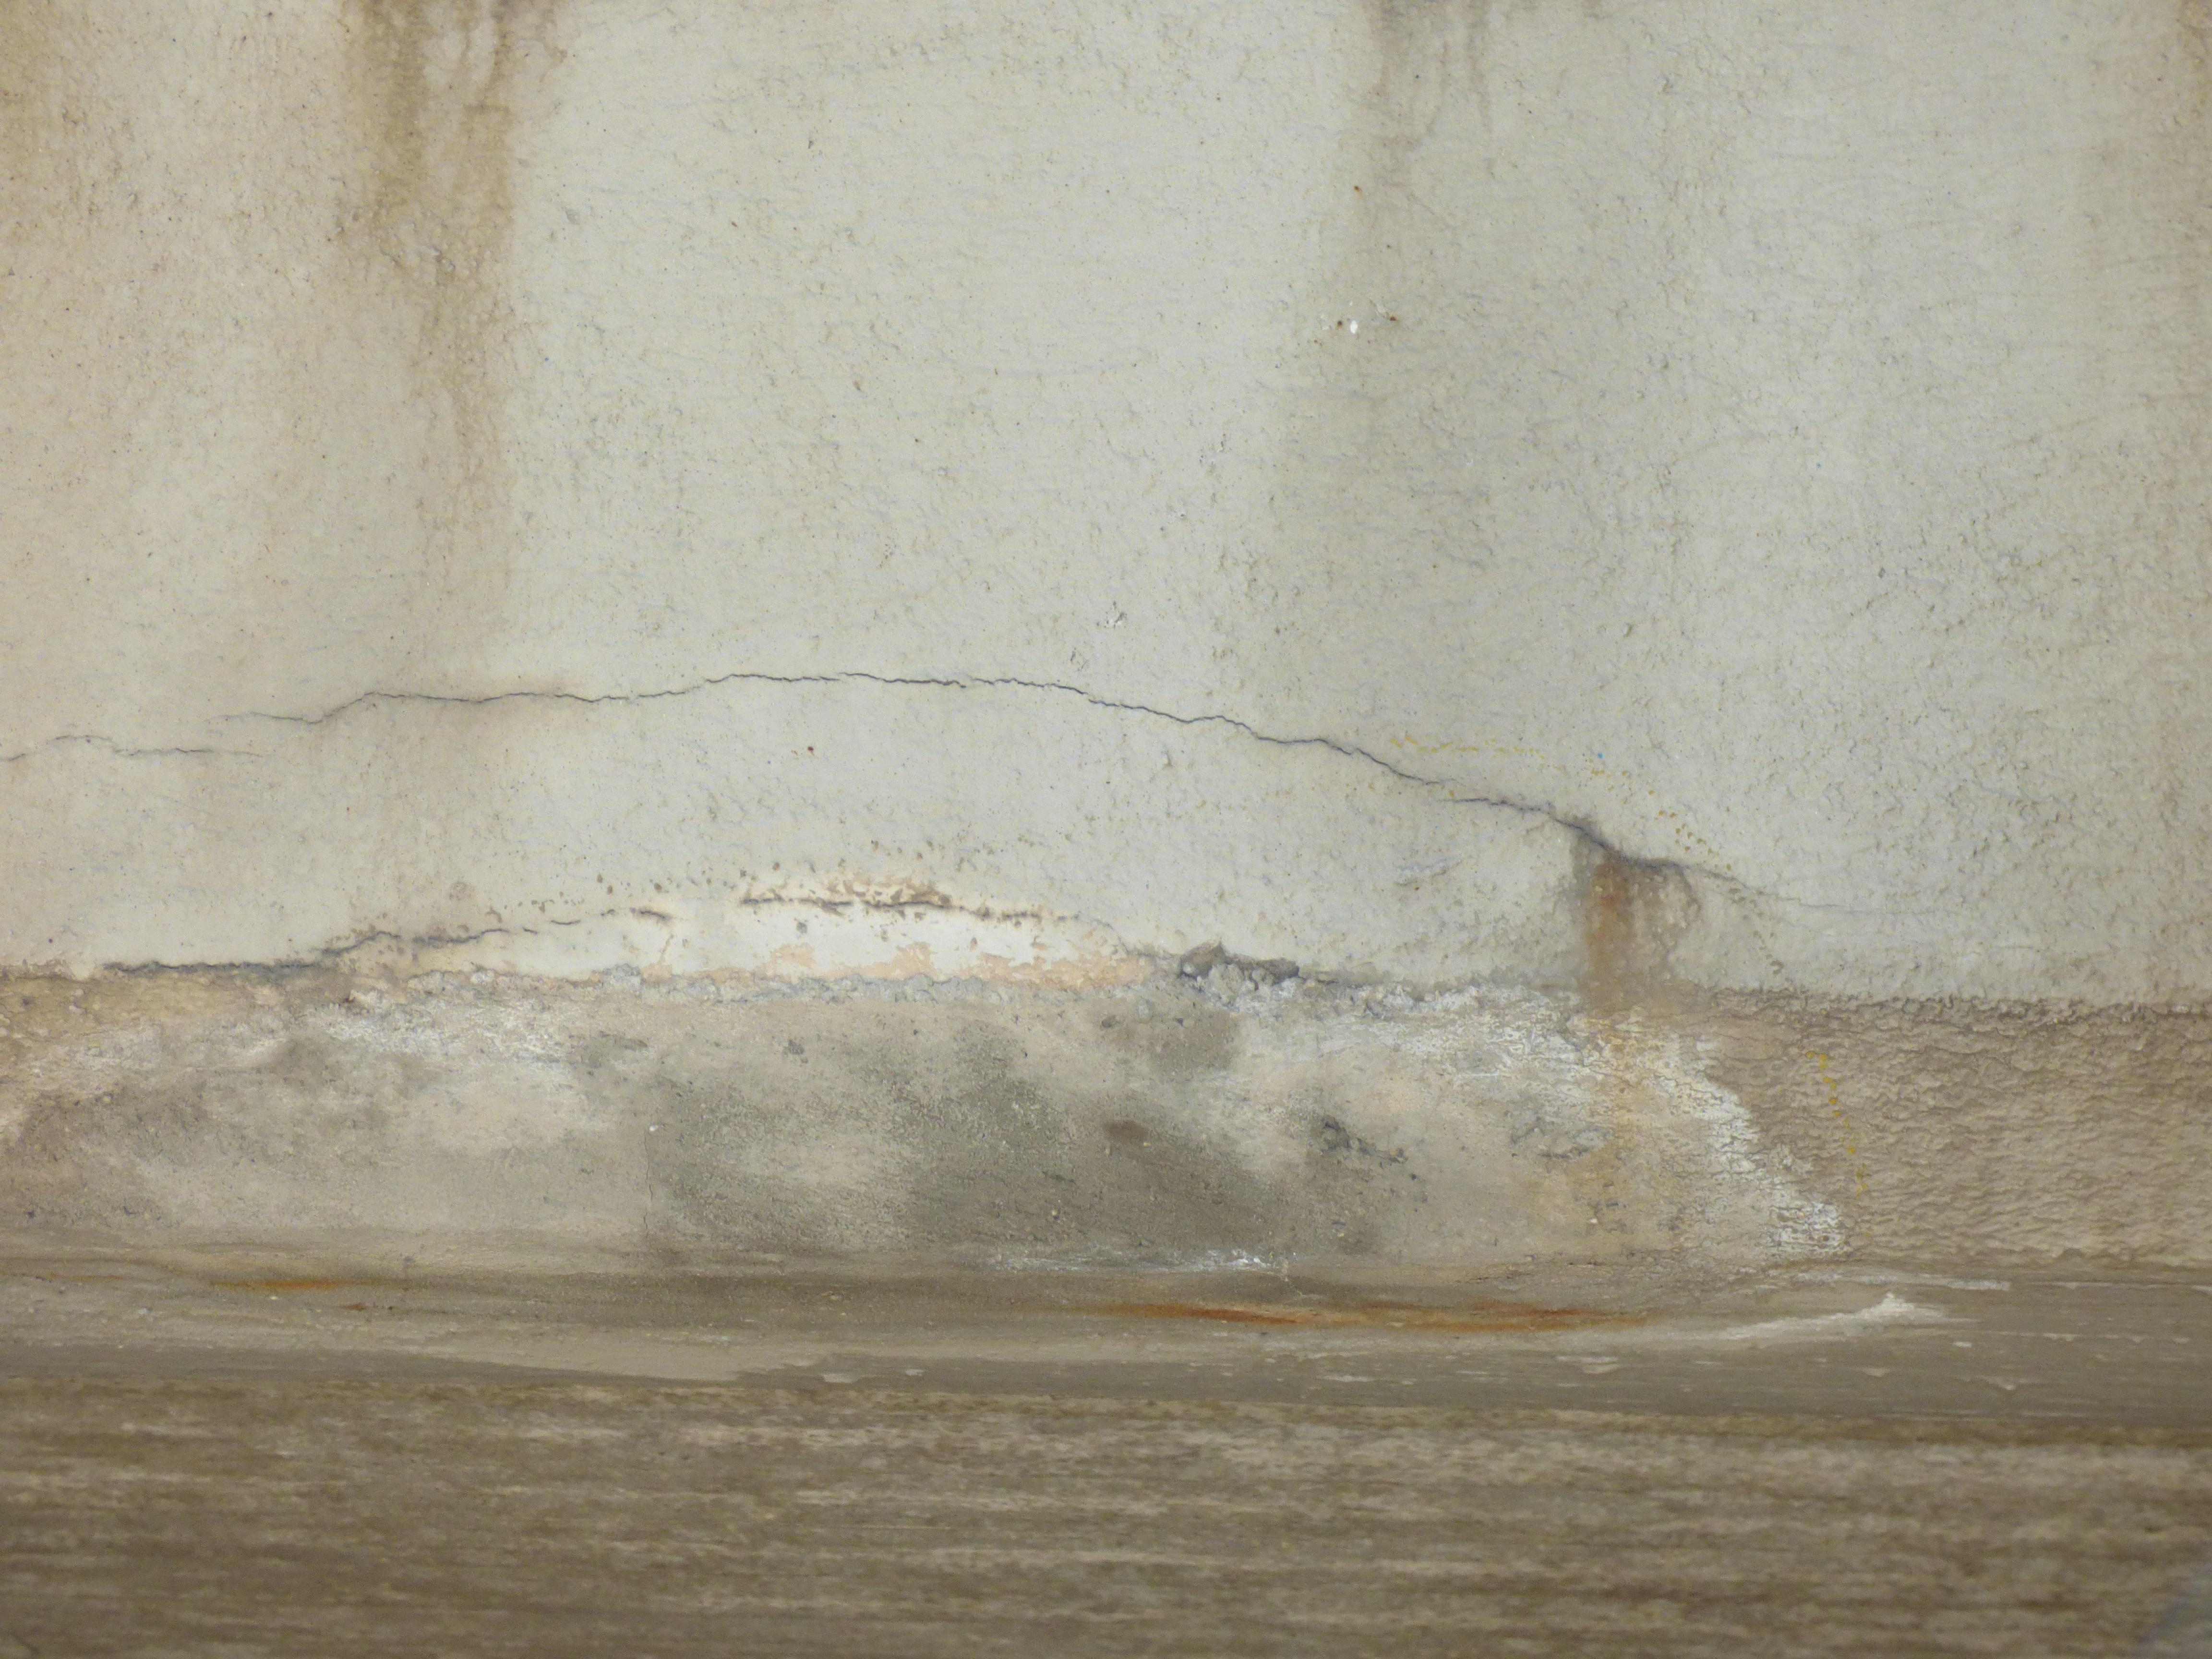Crack: (0, 667, 1733, 885)
Spalling: (0, 904, 1848, 1337)
